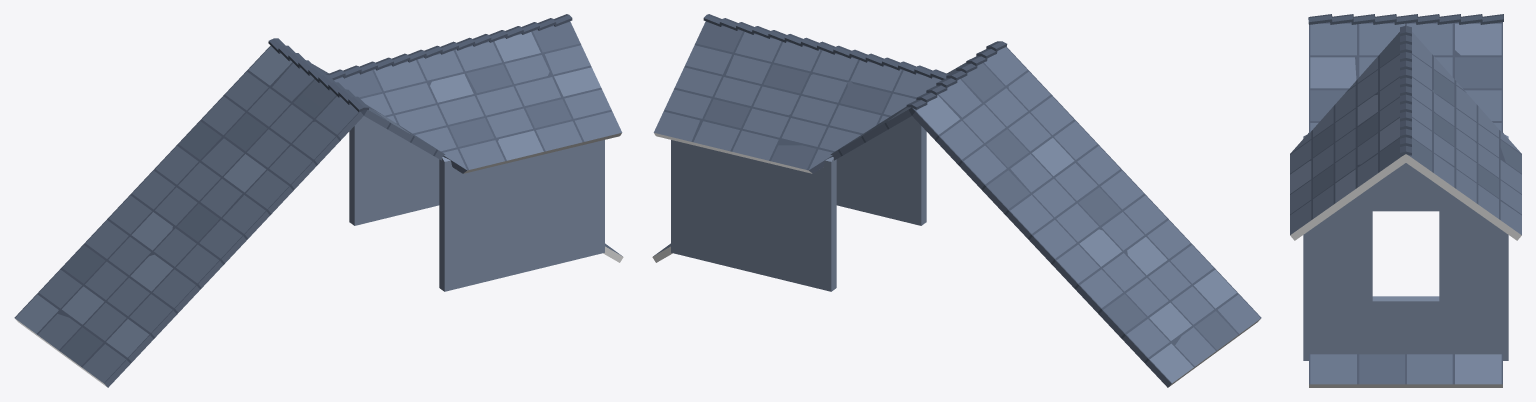
The model's file is Roof2_C7_06.fbx.
The picture shows the model from 3 angles, left to right: view 1: azimuth 30°, elevation 25°; view 2: azimuth 150°, elevation 25°; view 3: azimuth 270°, elevation 25°; orthographic projection. The views are drawn at different scales.
Parts seen in each view (by area): view 1: Roof2_C7_06; view 2: Roof2_C7_06; view 3: Roof2_C7_06.
Part boxes in pixels (left/top/right/bottom): Roof2_C7_06: left=14, top=14, right=623, bottom=387; Roof2_C7_06: left=652, top=14, right=1261, bottom=387; Roof2_C7_06: left=1290, top=14, right=1521, bottom=387.
Bounding box in the file's own units: 833 × 339 × 299.
